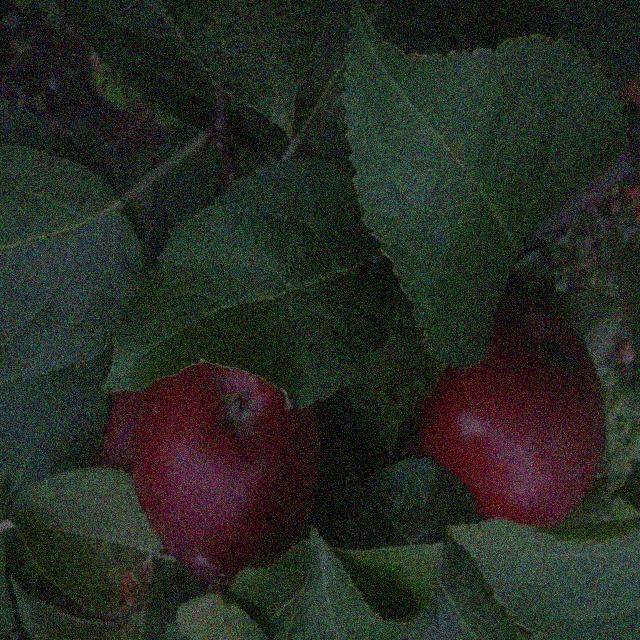red apple: (393, 286, 613, 537), (106, 356, 328, 586)
